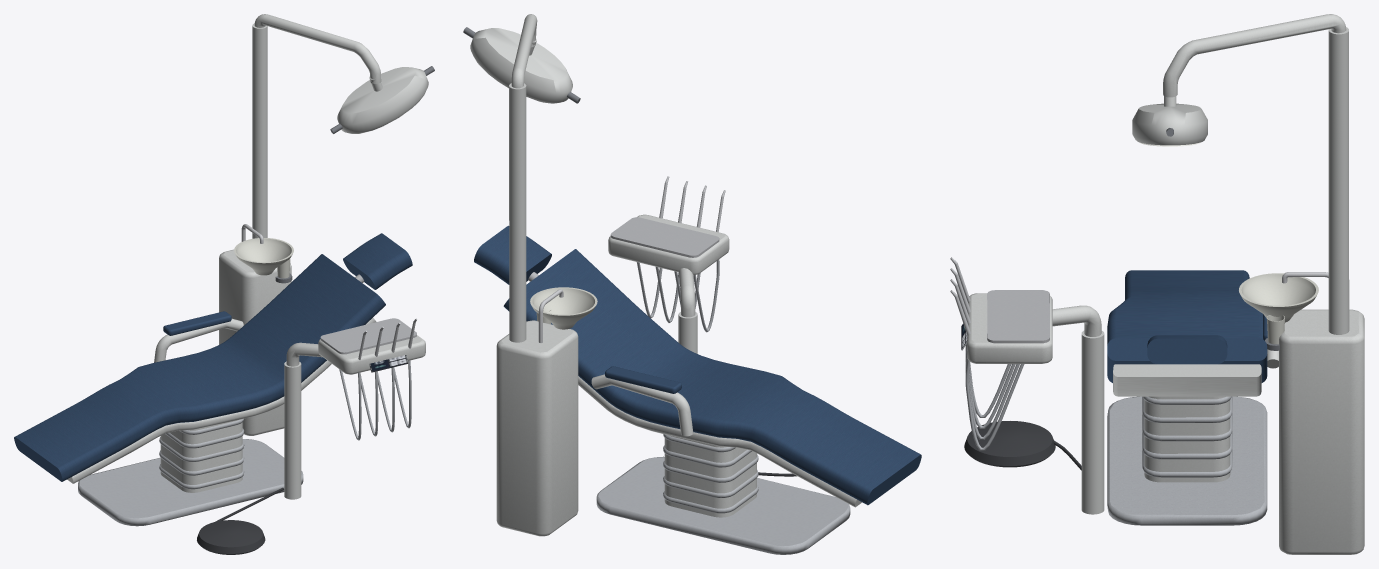
Rendered from dental-unit.glb.
3 views of the same model, side by side, from view 1: azimuth 30°, elevation 25°; view 2: azimuth 150°, elevation 25°; view 3: azimuth 270°, elevation 25° (orthographic). The views are drawn at different scales.
Parts seen in each view (by area): view 1: Armrest, Delivery unit panel, Cup filler and rinse spout, Foot control, Delivery unit, Handpiece hoses; view 2: Armrest, Delivery unit panel, Delivery unit, Cup filler and rinse spout, Handpiece hoses, Handpieces; view 3: Armrest, Delivery unit panel, Cup filler and rinse spout, Delivery unit, Foot control, Handpiece hoses, Handpieces.
Boxes of the visible parts, x1=… form: Armrest: x1=14, y1=14, x2=428, y2=499; Delivery unit panel: x1=78, y1=355, x2=408, y2=526; Cup filler and rinse spout: x1=234, y1=66, x2=434, y2=283; Foot control: x1=197, y1=487, x2=283, y2=554; Delivery unit: x1=320, y1=274, x2=416, y2=354; Handpiece hoses: x1=339, y1=360, x2=411, y2=440; Armrest: x1=470, y1=14, x2=921, y2=536; Delivery unit panel: x1=596, y1=434, x2=850, y2=554; Delivery unit: x1=528, y1=217, x2=719, y2=281; Cup filler and rinse spout: x1=463, y1=27, x2=597, y2=342; Handpiece hoses: x1=636, y1=259, x2=719, y2=332; Handpieces: x1=659, y1=176, x2=725, y2=232; Armrest: x1=967, y1=14, x2=1364, y2=554; Delivery unit panel: x1=961, y1=323, x2=1267, y2=525; Cup filler and rinse spout: x1=1166, y1=128, x2=1328, y2=350; Delivery unit: x1=987, y1=290, x2=1049, y2=343; Foot control: x1=964, y1=421, x2=1081, y2=470; Handpiece hoses: x1=965, y1=343, x2=1024, y2=450; Handpieces: x1=950, y1=257, x2=970, y2=335.
Size of the model in its own units: 2.11 by 2.07 by 1.45.
13 materials, 13 textured.
